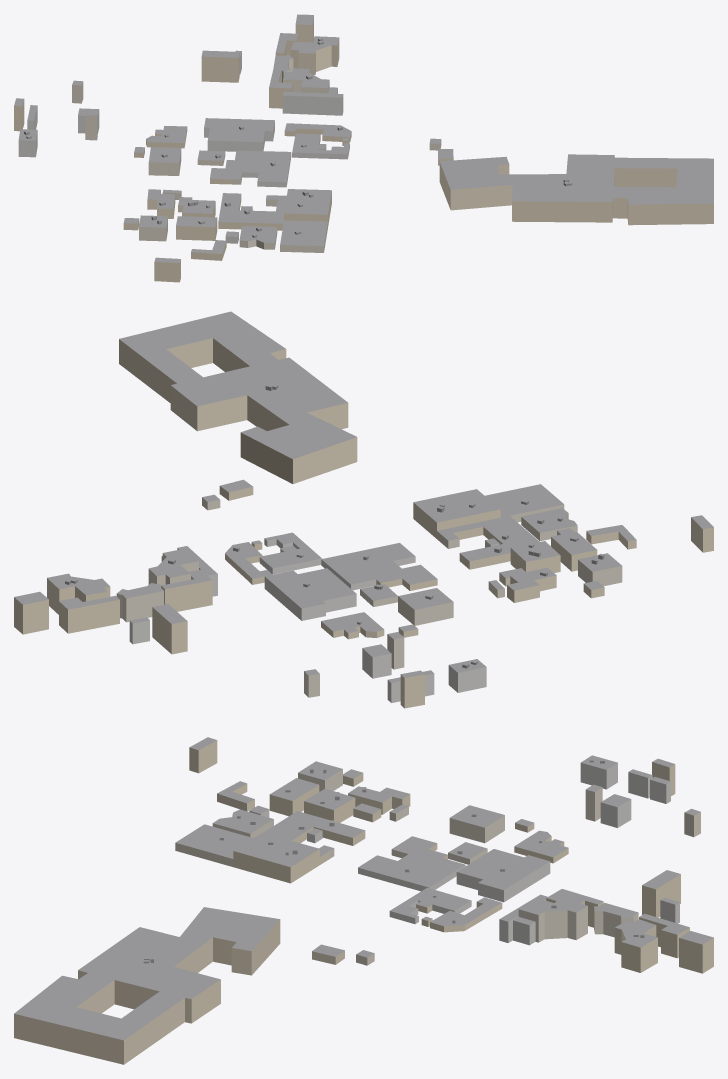
File: building_-5_-5.glb
The picture shows the model from 3 angles, top to bottom: view 1: azimuth 30°, elevation 25°; view 2: azimuth 150°, elevation 25°; view 3: azimuth 270°, elevation 25°; orthographic projection. The views are drawn at different scales.
Visible parts, largest first — view 1: roof, sandstone, concrete_light, concrete_warm; view 2: roof, sandstone, concrete_warm, concrete_light; view 3: roof, sandstone, concrete_warm, concrete_light.
Boxes of the visible parts, <box> form: roof: <box>14,14,713,262</box>; sandstone: <box>14,17,713,282</box>; concrete_light: <box>18,52,349,243</box>; concrete_warm: <box>72,58,441,252</box>; roof: <box>14,311,713,682</box>; sandstone: <box>14,338,713,708</box>; concrete_warm: <box>116,497,622,697</box>; concrete_light: <box>129,531,560,702</box>; roof: <box>14,737,713,1040</box>; sandstone: <box>14,740,713,1064</box>; concrete_warm: <box>175,769,700,965</box>; concrete_light: <box>249,763,679,945</box>.
Bounding box in the file's own units: 321 × 14.89 × 312.
